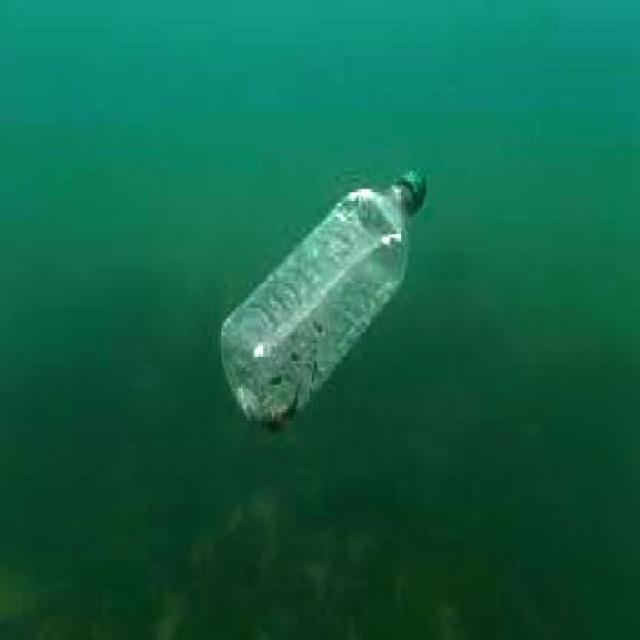pbottle: (212, 153, 438, 427)
